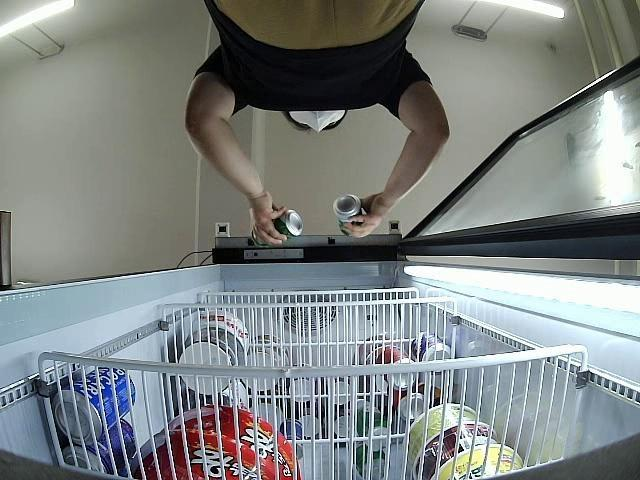12_chilsungCider: (250, 211, 302, 246), (334, 192, 366, 237)
